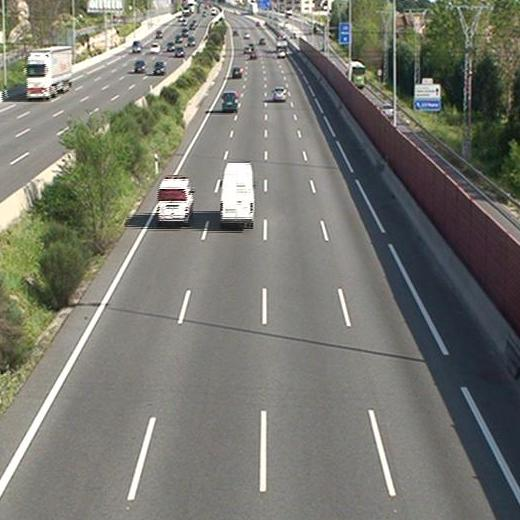car: (272, 87, 285, 100), (232, 66, 242, 77)
van: (220, 163, 255, 221), (158, 179, 191, 221), (221, 92, 237, 111)
